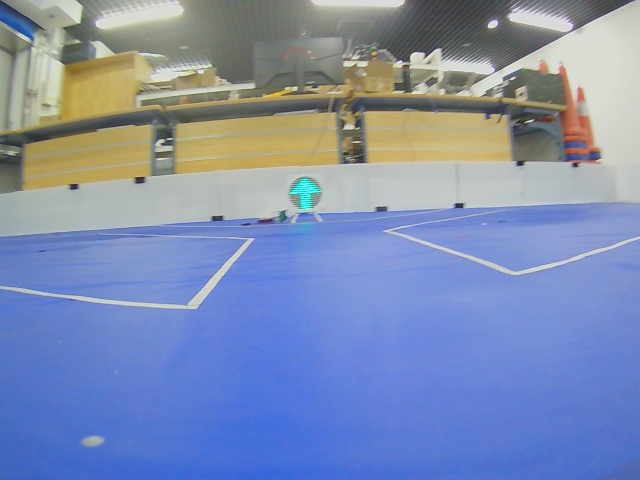straight_green: (288, 176, 322, 211)
